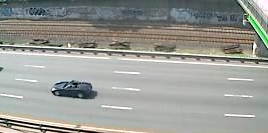car: (48, 77, 95, 101)
